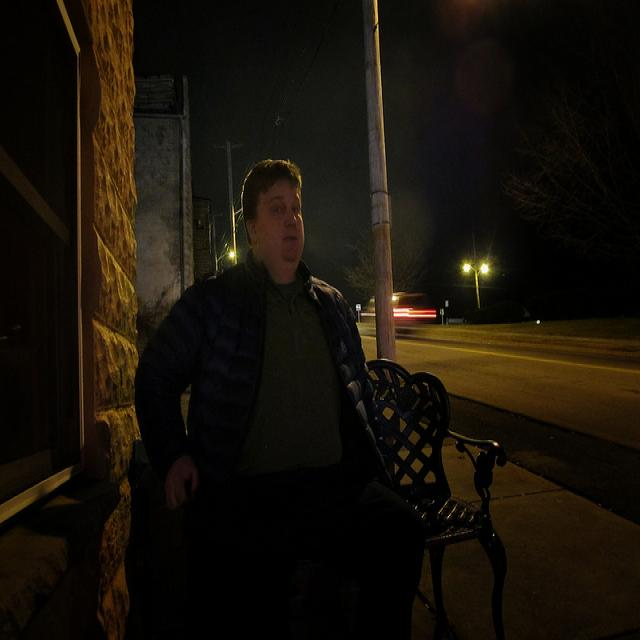Vehicle: (362, 293, 434, 331)
